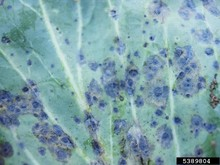damaged_cabbage: (1, 1, 217, 164)
